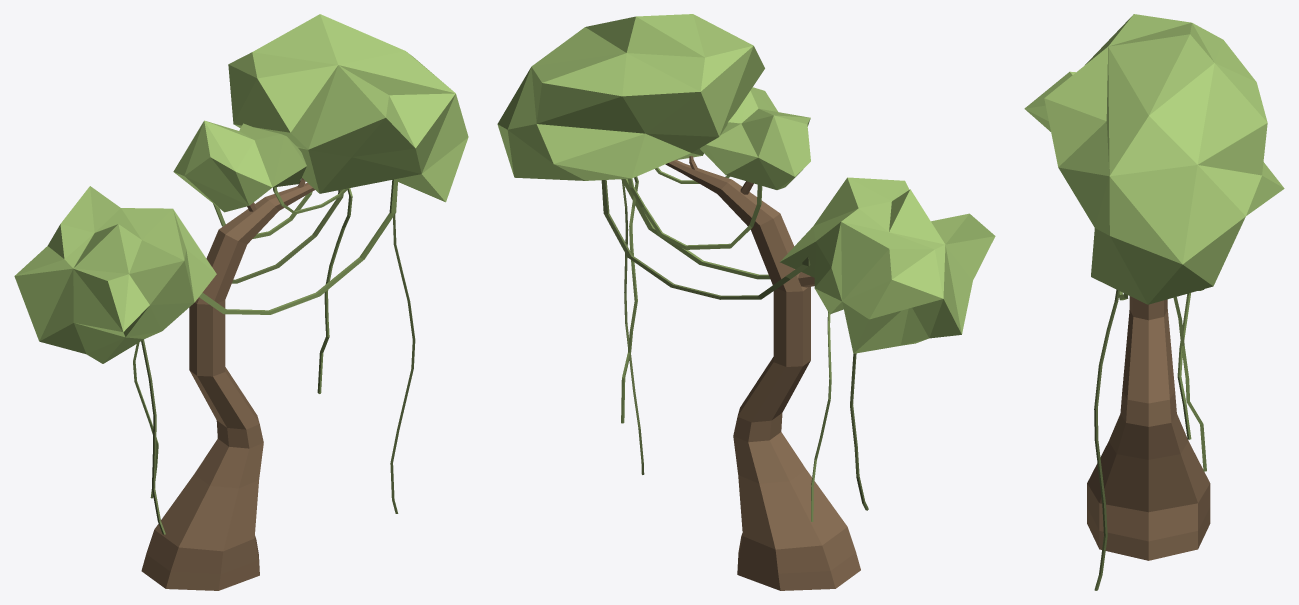
The model's file is Tree_2.fbx.
3 views of the same model, side by side, from view 1: azimuth 30°, elevation 25°; view 2: azimuth 150°, elevation 25°; view 3: azimuth 270°, elevation 25° (orthographic). The views are drawn at different scales.
Parts seen in each view (by area): view 1: Tree_2; view 2: Tree_2; view 3: Tree_2.
Part boxes in pixels (x1,y1,x2,y2): Tree_2: (14, 14, 468, 590); Tree_2: (497, 14, 995, 590); Tree_2: (1024, 14, 1284, 590).
Size of the model in its own units: 461 by 512 by 212.
Materials: 1 (1 with a texture image).
